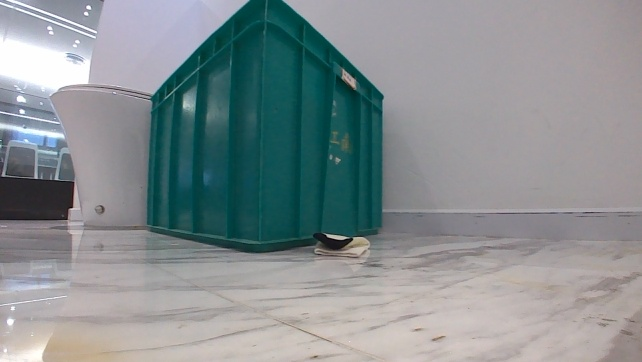toilet: (44, 79, 156, 230)
